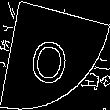O_N: (32, 25, 78, 85)
